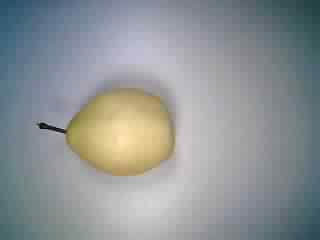pear: (32, 80, 185, 181)
